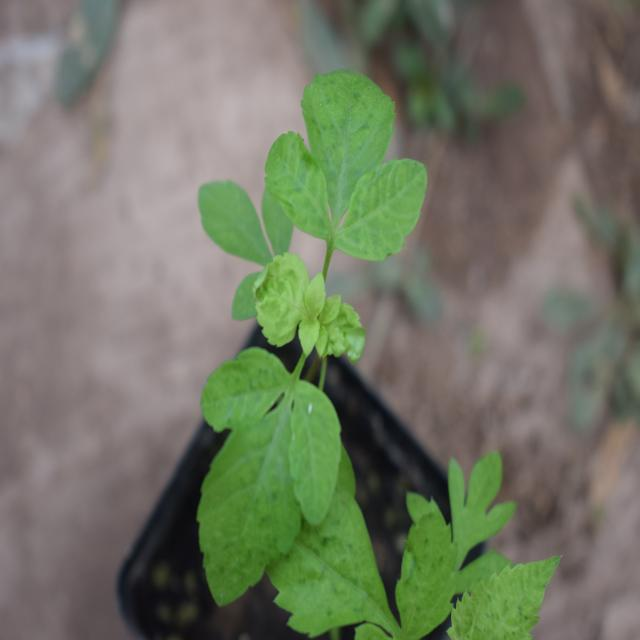Bidens pilosa: (183, 53, 430, 612)
